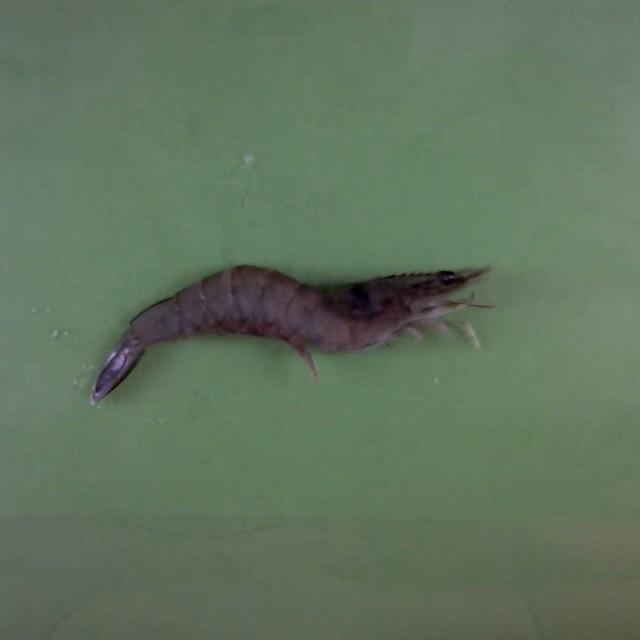shrimp: (90, 266, 489, 404)
